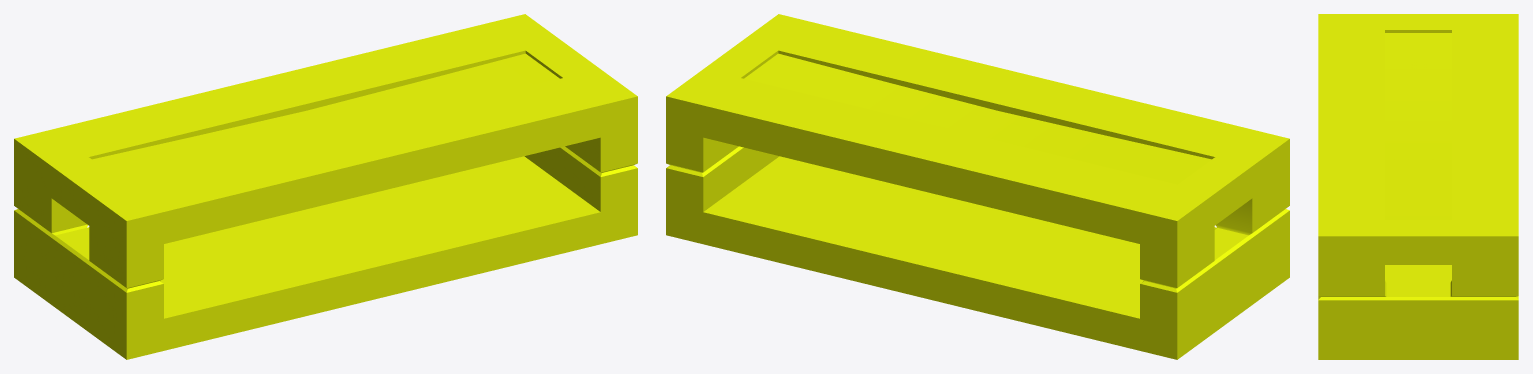
File: CoffeeTable1.FBX
The picture shows the model from 3 angles, left to right: view 1: azimuth 30°, elevation 25°; view 2: azimuth 150°, elevation 25°; view 3: azimuth 270°, elevation 25°; orthographic projection. The views are drawn at different scales.
Visible parts, largest first — view 1: Box028; view 2: Box028; view 3: Box028.
Boxes of the visible parts, left/top/right/bottom form: Box028: left=14, top=14, right=637, bottom=359; Box028: left=666, top=14, right=1289, bottom=359; Box028: left=1318, top=14, right=1518, bottom=359.
Size of the model in its own units: 2.89 by 0.7502 by 1.1.
